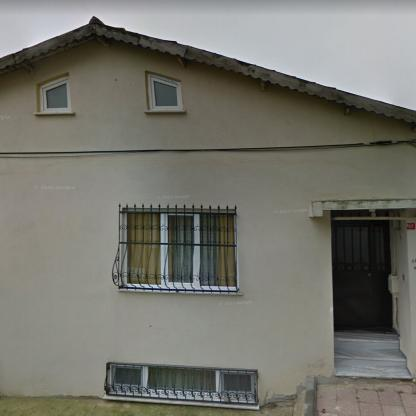door: (335, 224, 387, 328)
window: (127, 213, 235, 287), (111, 367, 253, 395), (45, 81, 68, 108), (154, 81, 177, 106)
